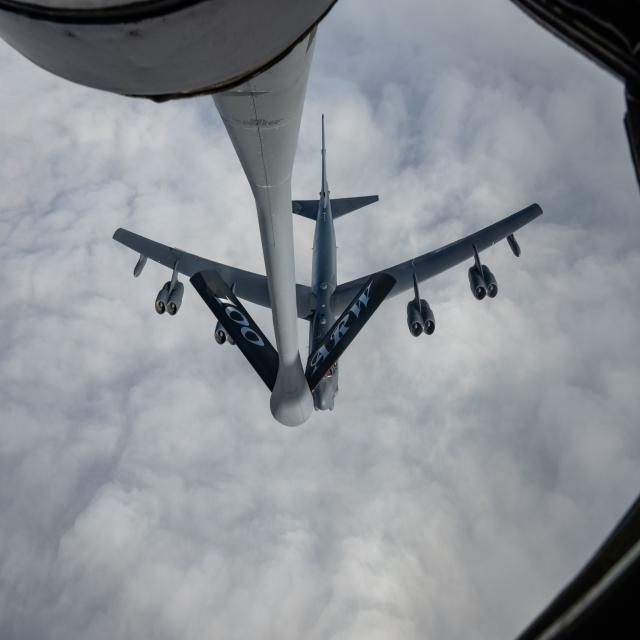B52: (106, 111, 553, 439)
